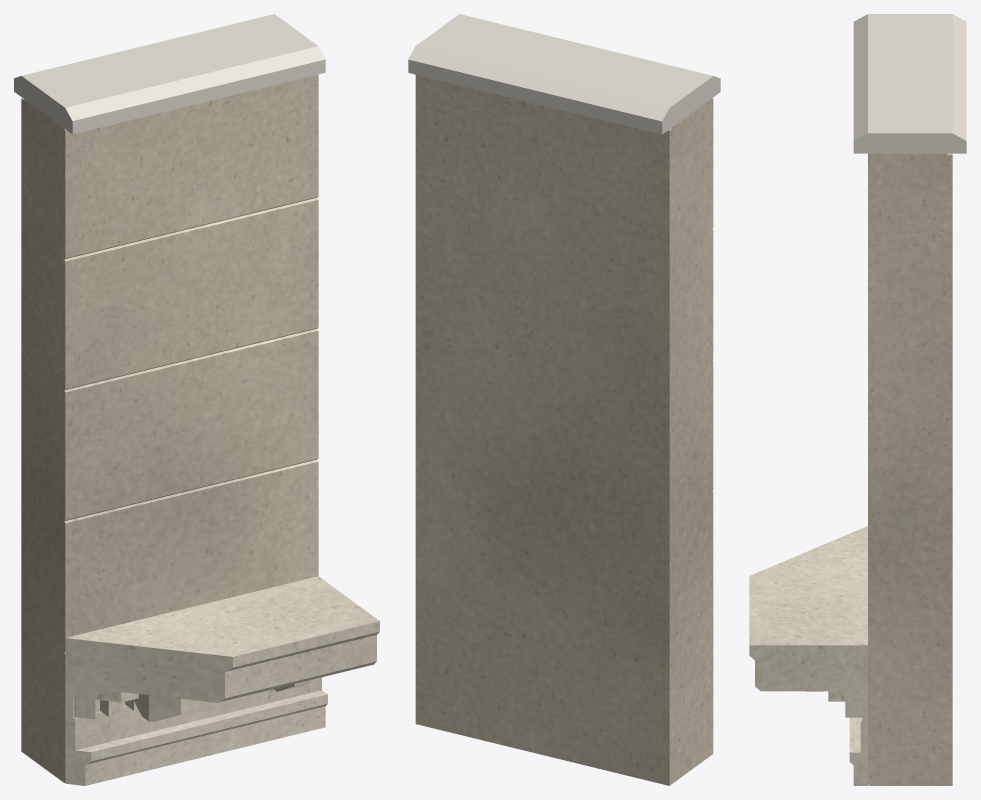
File: pv_side_attic_l.glb
The picture shows the model from 3 angles, left to right: view 1: azimuth 30°, elevation 25°; view 2: azimuth 150°, elevation 25°; view 3: azimuth 270°, elevation 25°; orthographic projection. The views are drawn at different scales.
Parts seen in each view (by area): view 1: pv_side_attic_l_ashlar, pv_side_attic_l_trim, pv_side_attic_l_coping; view 2: pv_side_attic_l_ashlar, pv_side_attic_l_coping; view 3: pv_side_attic_l_ashlar, pv_side_attic_l_trim, pv_side_attic_l_coping.
Boxes of the visible parts, bbox=[...] form: pv_side_attic_l_ashlar: bbox=[21, 74, 318, 782]; pv_side_attic_l_trim: bbox=[65, 576, 379, 785]; pv_side_attic_l_coping: bbox=[14, 14, 325, 134]; pv_side_attic_l_ashlar: bbox=[415, 75, 713, 785]; pv_side_attic_l_coping: bbox=[408, 14, 720, 134]; pv_side_attic_l_ashlar: bbox=[868, 153, 952, 785]; pv_side_attic_l_trim: bbox=[749, 526, 867, 785]; pv_side_attic_l_coping: bbox=[853, 14, 966, 153].
Bounding box in the file's own units: 1 × 2.55 × 0.77.
3 materials, 2 textured.
